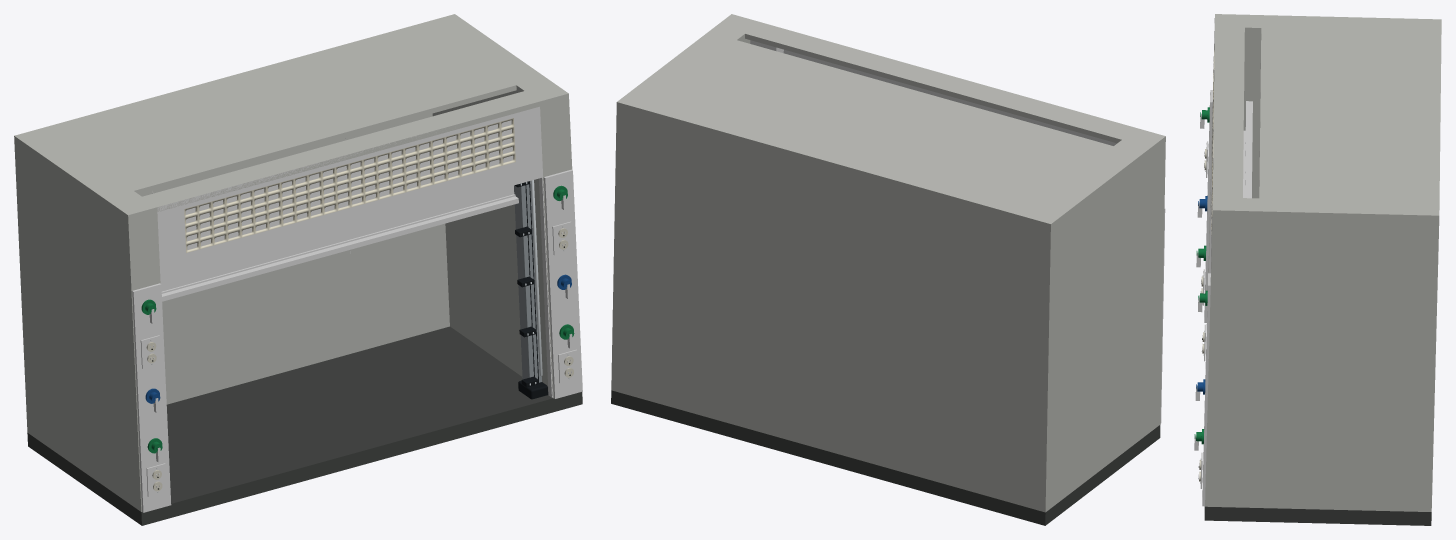
3 views of the same model, side by side, from view 1: azimuth 30°, elevation 25°; view 2: azimuth 150°, elevation 25°; view 3: azimuth 270°, elevation 25° (orthographic).
Parts seen in each view (by area): view 1: roof_rear, worktop, left_column, baffle, right_column, perforated_panel, lower.001, roof_front, recess_back, front_skin.001, front_skin, glass (+9 smaller); view 2: rear, roof_rear, left_column, roof_front, right_column, worktop, recess_back; view 3: right_column, roof_rear, roof_front, worktop, left_column, rear, front_skin.001, front_skin, top.
Boxes of the visible parts, box(x1,y1,x2,y2) form: roof_rear: box(14, 14, 544, 203); worktop: box(27, 326, 582, 525); left_column: box(17, 142, 160, 511); baffle: box(162, 223, 449, 404); right_column: box(432, 77, 572, 398); perforated_panel: box(184, 118, 515, 252); lower.001: box(159, 154, 543, 282); roof_front: box(113, 83, 568, 220); recess_back: box(184, 118, 513, 249); front_skin.001: box(544, 169, 582, 398); front_skin: box(132, 283, 171, 512); glass: box(161, 185, 514, 291); rear: box(611, 110, 1053, 512); roof_rear: box(616, 32, 1141, 228); left_column: box(1017, 136, 1165, 511); roof_front: box(717, 14, 1165, 152); right_column: box(611, 25, 750, 398); worktop: box(611, 390, 1160, 525); recess_back: box(783, 49, 1101, 142); right_column: box(1205, 198, 1437, 511); roof_rear: box(1259, 15, 1441, 220); roof_front: box(1212, 14, 1244, 215); worktop: box(1204, 506, 1431, 525); left_column: box(1208, 14, 1261, 272); rear: box(1426, 215, 1439, 511); front_skin.001: box(1202, 273, 1210, 506); front_skin: box(1204, 90, 1212, 322); top: box(1245, 101, 1252, 198).
Size of the model in its own units: 1.87 by 1.31 by 0.9037.
